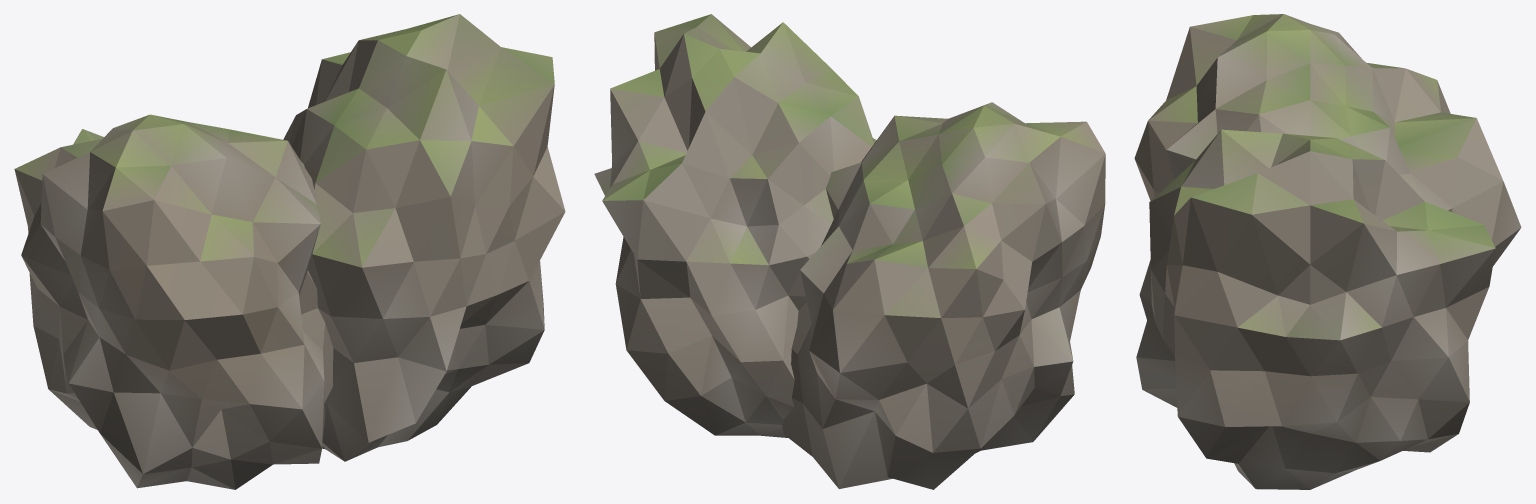
The model's file is geo_boulder_split_b.glb.
The picture shows the model from 3 angles, left to right: view 1: azimuth 30°, elevation 25°; view 2: azimuth 150°, elevation 25°; view 3: azimuth 270°, elevation 25°; orthographic projection. The views are drawn at different scales.
Visible parts, largest first — view 1: geo_boulder_split_b; view 2: geo_boulder_split_b; view 3: geo_boulder_split_b.
Boxes of the visible parts, bbox=[...] form: geo_boulder_split_b: bbox=[14, 14, 565, 489]; geo_boulder_split_b: bbox=[594, 14, 1105, 489]; geo_boulder_split_b: bbox=[1134, 14, 1521, 489].
Bounding box in the file's own units: 2.8 × 2.08 × 2.01.
